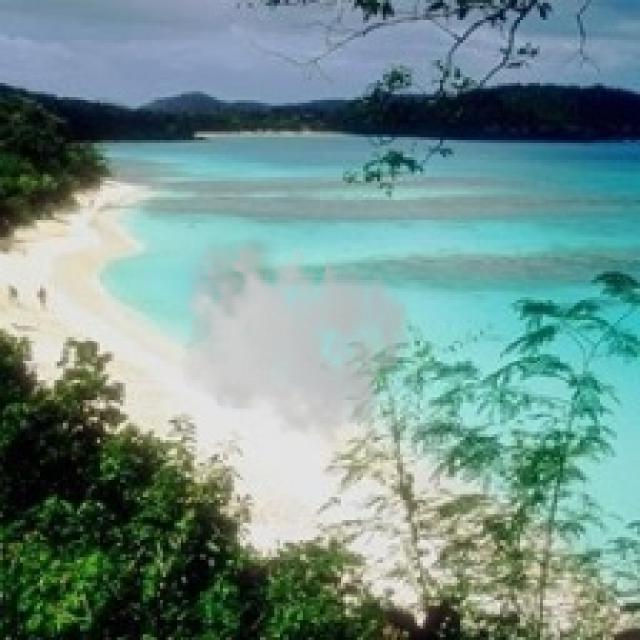Smoke: (172, 231, 412, 443)
